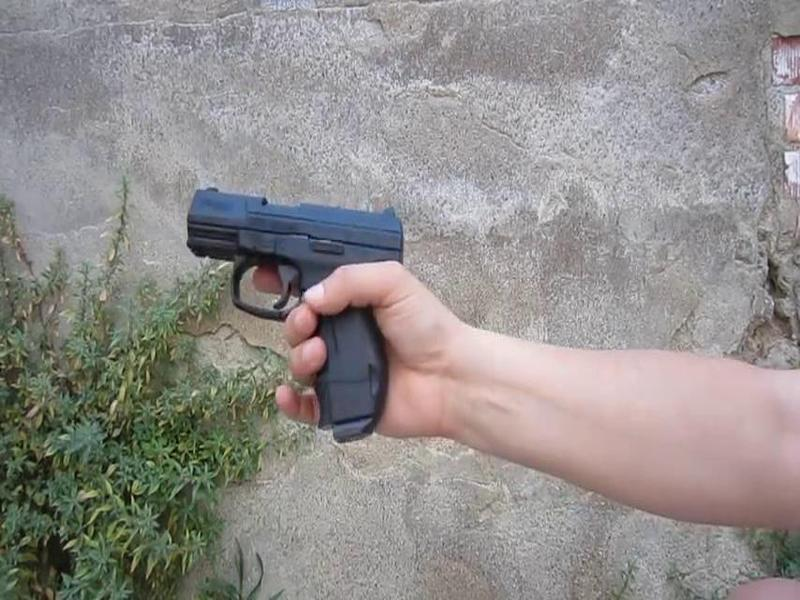Pistola: (173, 164, 416, 463)
